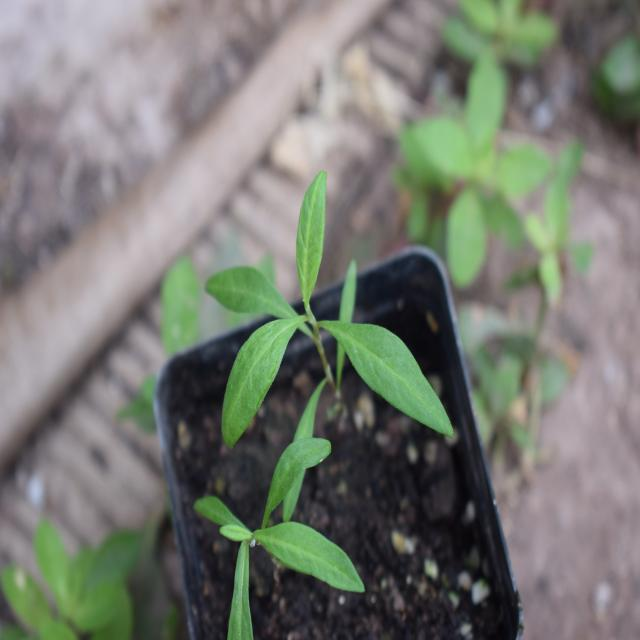white_smart_weed: (201, 187, 481, 483), (182, 422, 377, 634)
